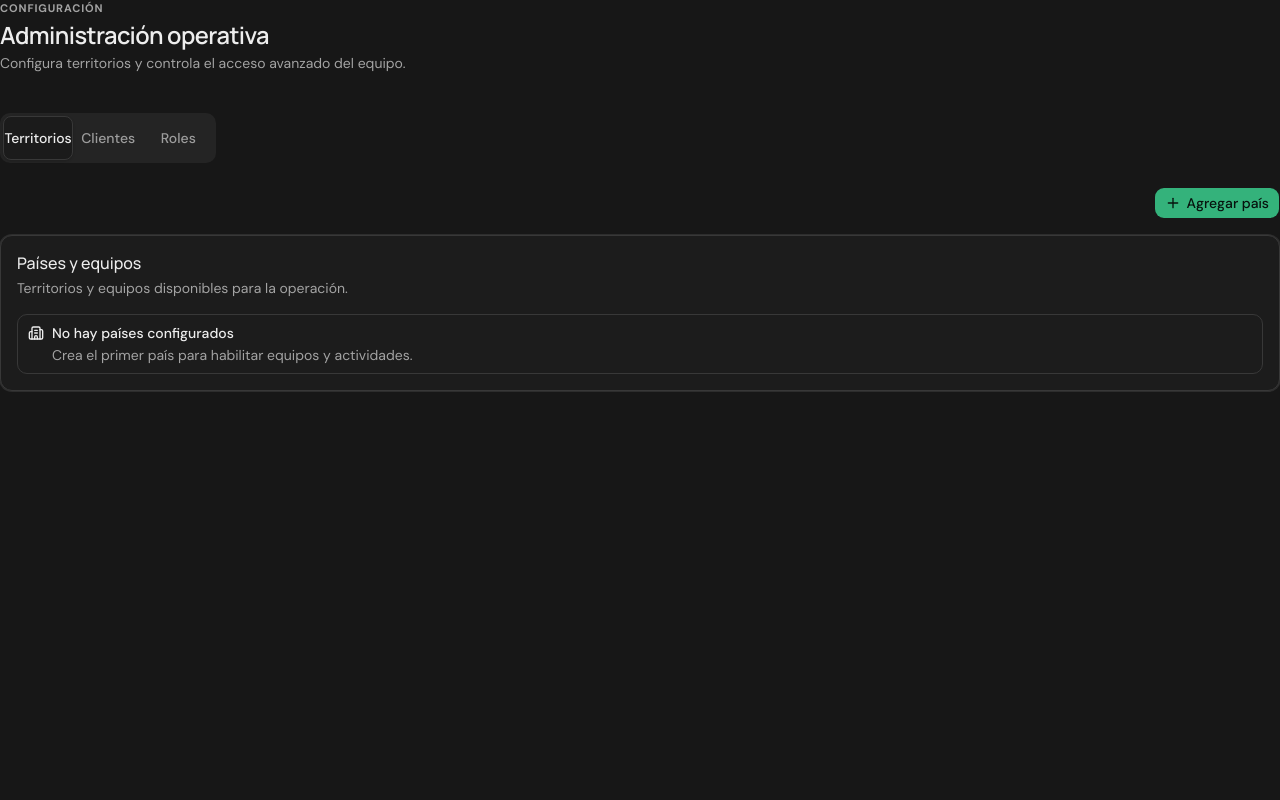
AdministrationPage › disables catalog save actions until required fields are complete
Click the button "Agregar país" at (1217, 203), box [1154,187,1279,219]
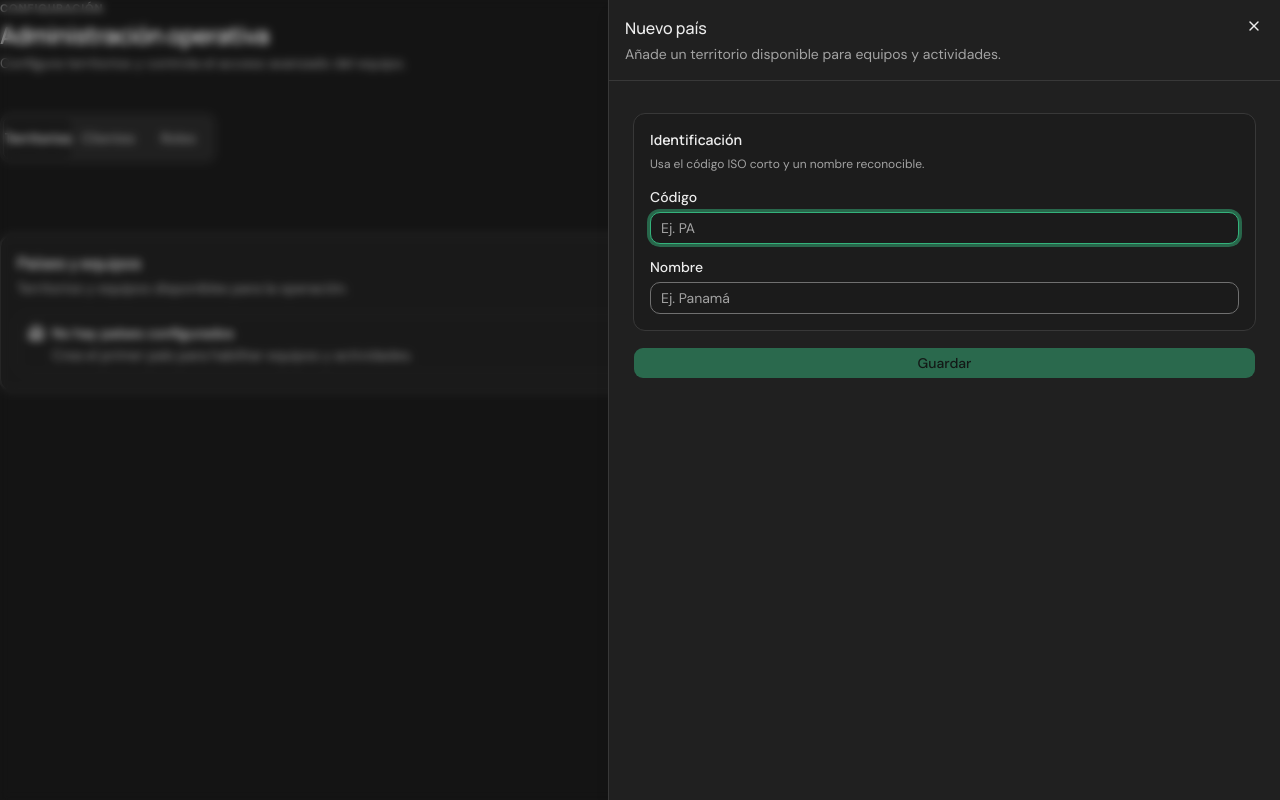
Expected: the button "Guardar" is disabled, [633,347,1256,379]
